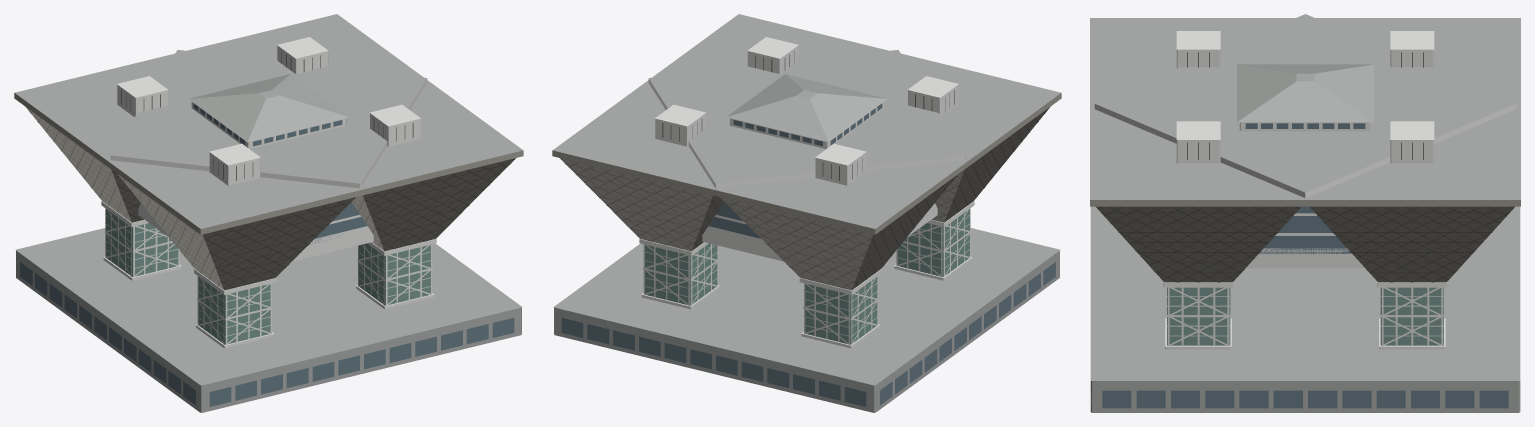
The model's file is tokyo-big-sight.detail.glb.
3 views of the same model, side by side, from view 1: azimuth 30°, elevation 25°; view 2: azimuth 150°, elevation 25°; view 3: azimuth 270°, elevation 25° (orthographic). The views are drawn at different scales.
Visible parts, largest first — view 1: Tokyo Big Sight Conference Tower; view 2: Tokyo Big Sight Conference Tower; view 3: Tokyo Big Sight Conference Tower.
Part boxes in pixels (bbox=[...]): Tokyo Big Sight Conference Tower: bbox=[14, 14, 523, 412]; Tokyo Big Sight Conference Tower: bbox=[552, 14, 1061, 412]; Tokyo Big Sight Conference Tower: bbox=[1090, 14, 1520, 412].
Size of the model in its own units: 98.1 by 61.5 by 98.1.
